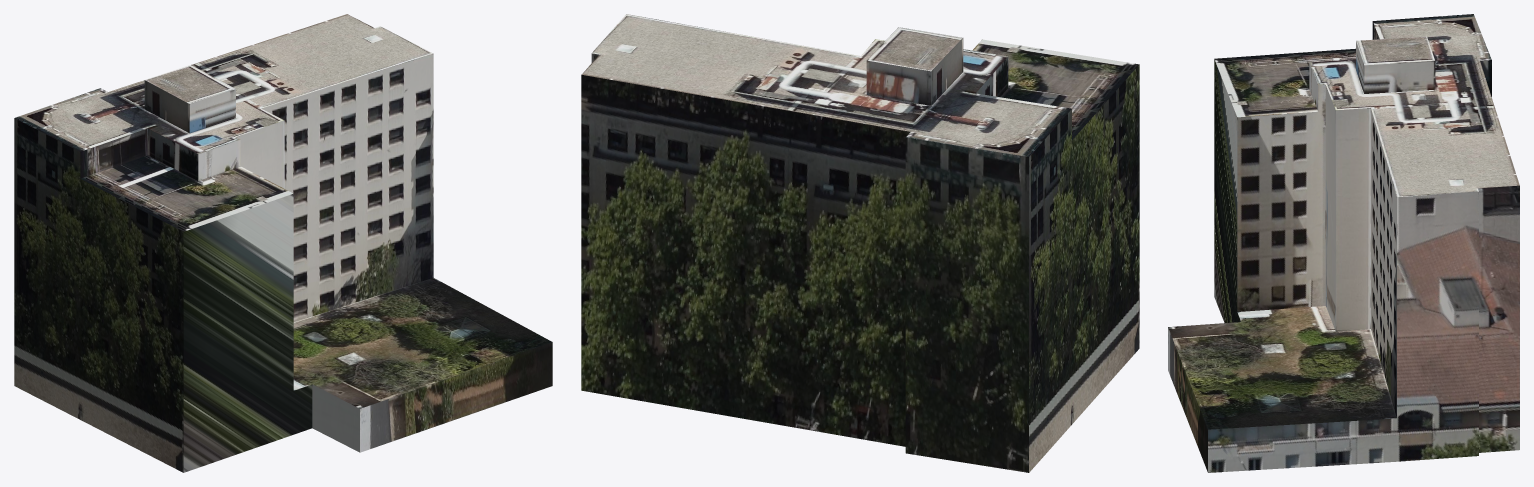
3 views of the same model, side by side, from view 1: azimuth 30°, elevation 25°; view 2: azimuth 150°, elevation 25°; view 3: azimuth 270°, elevation 25° (orthographic). The views are drawn at different scales.
Parts seen in each view (by area): view 1: Z_UP; view 2: Z_UP; view 3: Z_UP.
Part boxes in pixels (bbox=[...]): Z_UP: bbox=[14, 14, 552, 472]; Z_UP: bbox=[581, 14, 1139, 472]; Z_UP: bbox=[1168, 14, 1519, 472].
Bounding box in the file's own units: 40.45 × 28.45 × 30.92.
2 materials, 1 textured.
